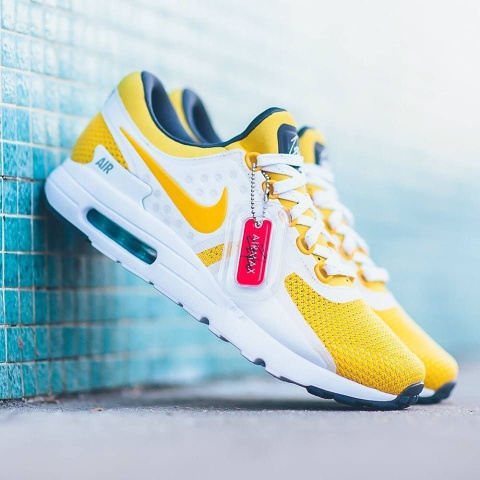nike: (115, 127, 231, 239)
